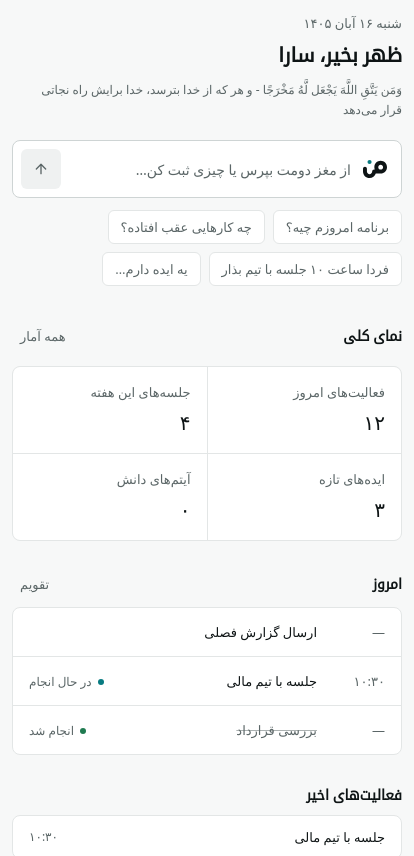
Test case: Home dashboard › prefills the ask bar for open-ended prompts instead of sending them
Click the button "یه ایده دارم…": (151,269) [102,252,200,286]
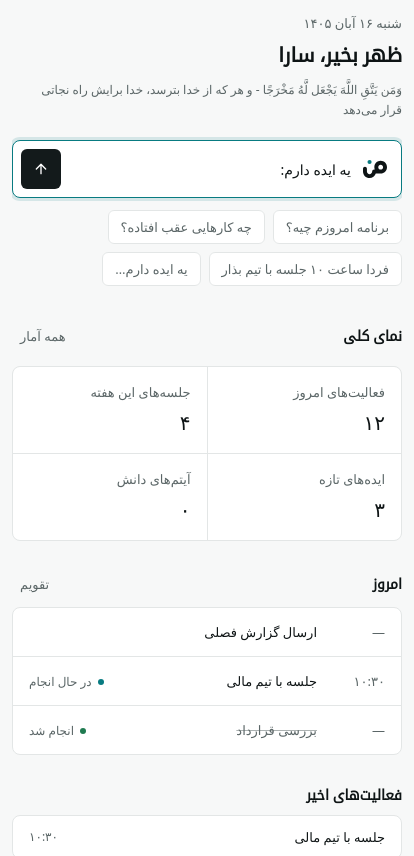
Expected: the field named "پیام به دستیار" holds "یه ایده دارم: ", [73,149,351,189]
